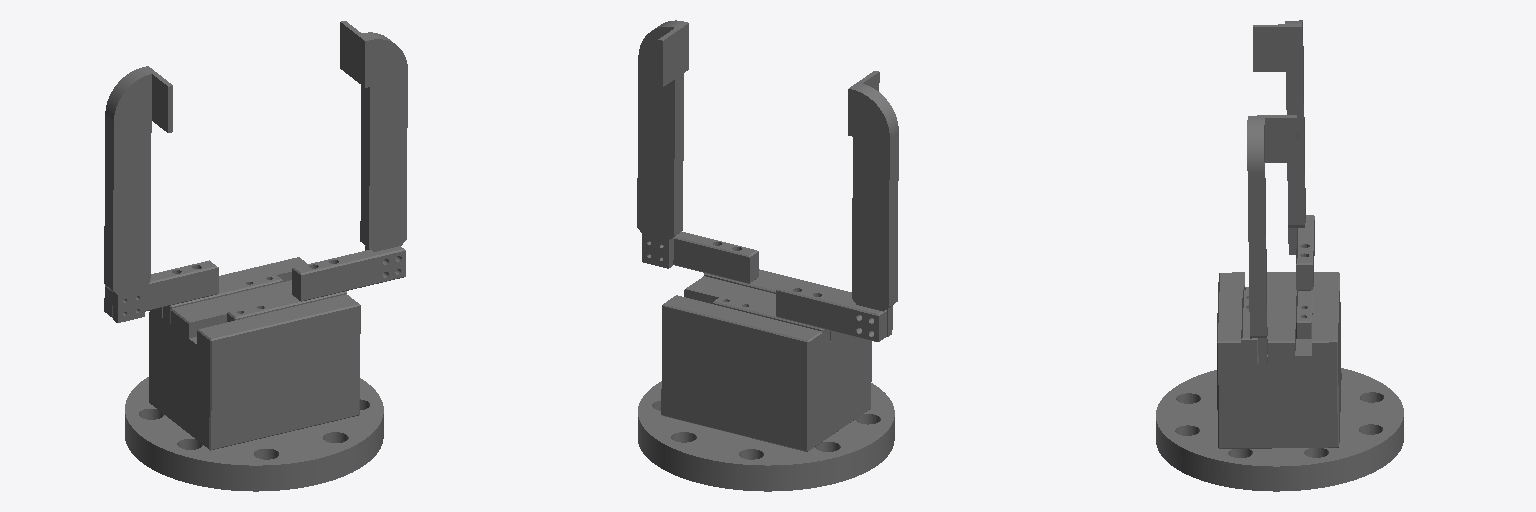
URDF robot description (custom_robots):
<?xml version="1.0" ?>
<robot name="custom_robots" version="1.0">
  <material name="black">
    <color rgba="0.0 0.0 0.0 1.0"/>
  </material>
  <material name="blue">
    <color rgba="0.0 0.0 0.8 1.0"/>
  </material>
  <material name="green">
    <color rgba="0.0 0.8 0.0 1.0"/>
  </material>
  <material name="grey_">
    <color rgba="0.2 0.2 0.2 1.0"/>
  </material>
  <material name="orange">
    <color rgba="1.0 0.423529411765 0.0392156862745 1.0"/>
  </material>
  <material name="brown">
    <color rgba="0.870588235294 0.811764705882 0.764705882353 1.0"/>
  </material>
  <material name="red">
    <color rgba="0.8 0.0 0.0 1.0"/>
  </material>
  <material name="white">
    <color rgba="1.0 1.0 1.0 1.0"/>
  </material>
  <material name="metal">
    <color rgba="0.76862745098 0.749019607843 0.729411764706 1.0"/>
  </material>
  <material name="metal_grey">
    <color rgba="0.501960784314 0.501960784314 0.501960784314 1.0"/>
  </material>
  <material name="metal_white">
    <color rgba="0.866666666667 0.866666666667 0.890196078431 1.0"/>
  </material>
  <link name="base_link"/>
  <joint name="indy0_joint_base" type="fixed">
    <origin rpy="7.72251143907e-05 0.012837732858 -1.58433052921" xyz="-0.446480512619 0.251528263092 0.00979518890381"/>
    <parent link="base_link"/>
    <child link="indy0_link0"/>
  </joint>
  <link name="indy0_link0">
    <inertial>
      <origin rpy="0.0 0.0 0.0" xyz="0.0 0.0 0.0"/>
      <mass value="1.59306955"/>
      <inertia ixx="0.00572623" ixy="2.51e-06" ixz="-0.0001138" iyy="0.00558959" iyz="-1.4e-07" izz="0.00966674"/>
    </inertial>
    <visual>
      <origin rpy="0.0 0.0 0.0" xyz="0.0 0.0 0.0"/>
      <geometry>
        <mesh filename="package://indy7_description/meshes/stl/Indy7_0.stl"/>
      </geometry>
      <material name="metal_grey"/>
    </visual>
    <collision>
      <origin rpy="-0.0 1.57079633 0.0" xyz="-0.1 0.0 0.03"/>
      <geometry>
        <cylinder length="0.2" radius="0.05"/>
      </geometry>
    </collision>
  </link>
  <link name="indy0_link1">
    <inertial>
      <origin rpy="0.0 0.0 0.0" xyz="0.0 0.0 0.0"/>
      <mass value="11.8030102"/>
      <inertia ixx="0.15418559" ixy="-2.35e-06" ixz="1.739e-05" iyy="0.12937017" iyz="-0.04854267" izz="0.05964415"/>
    </inertial>
    <visual>
      <origin rpy="0.0 0.0 0.0" xyz="0.0 0.0 0.0"/>
      <geometry>
        <mesh filename="package://indy7_description/meshes/stl/Indy7_1.stl"/>
      </geometry>
      <material name="metal_grey"/>
    </visual>
    <collision>
      <origin rpy="0.0 0.0 0.0" xyz="0.0 0.0 0.072"/>
      <geometry>
        <cylinder length="0.3" radius="0.1"/>
      </geometry>
    </collision>
  </link>
  <link name="indy0_link2">
    <inertial>
      <origin rpy="0.0 0.0 0.0" xyz="0.0 0.0 0.0"/>
      <mass value="7.99292141"/>
      <inertia ixx="0.2935698" ixy="-4e-07" ixz="1.441e-05" iyy="0.28094142" iyz="0.03727972" izz="0.03620609"/>
    </inertial>
    <visual>
      <origin rpy="0.0 0.0 0.0" xyz="0.0 0.0 0.0"/>
      <geometry>
        <mesh filename="package://indy7_description/meshes/stl/Indy7_2.stl"/>
      </geometry>
      <material name="metal_grey"/>
    </visual>
    <collision>
      <origin rpy="1.57079632679 0.0 -1.57079632679" xyz="-0.225 0.0 0.09"/>
      <geometry>
        <cylinder length="0.45" radius="0.073"/>
      </geometry>
    </collision>
    <collision>
      <origin rpy="0.0 0.0 0.0" xyz="0.0 0.0 -0.01"/>
      <geometry>
        <cylinder length="0.2" radius="0.085"/>
      </geometry>
    </collision>
  </link>
  <link name="indy0_link3">
    <inertial>
      <origin rpy="0.0 0.0 0.0" xyz="0.0 0.0 0.0"/>
      <mass value="2.99134127"/>
      <inertia ixx="0.03424593" ixy="1.49e-06" ixz="7.24e-06" iyy="0.03406024" iyz="0.00186009" izz="0.00450477"/>
    </inertial>
    <visual>
      <origin rpy="0.0 0.0 0.0" xyz="0.0 0.0 0.0"/>
      <geometry>
        <mesh filename="package://indy7_description/meshes/stl/Indy7_3.stl"/>
      </geometry>
      <material name="metal_grey"/>
    </visual>
    <collision>
      <origin rpy="0.0 0.0 0.0" xyz="0.0 0.0 0.03"/>
      <geometry>
        <cylinder length="0.2" radius="0.065"/>
      </geometry>
    </collision>
  </link>
  <link name="indy0_link4">
    <inertial>
      <origin rpy="0.0 0.0 0.0" xyz="0.0 0.0 0.0"/>
      <mass value="2.12317035"/>
      <inertia ixx="0.00670405" ixy="3.75e-06" ixz="1.5e-06" iyy="0.00279246" iyz="-0.00127967" izz="0.00619341"/>
    </inertial>
    <visual>
      <origin rpy="0.0 0.0 0.0" xyz="0.0 0.0 0.0"/>
      <geometry>
        <mesh filename="package://indy7_description/meshes/stl/Indy7_4.stl"/>
      </geometry>
      <material name="metal_grey"/>
    </visual>
    <collision>
      <origin rpy="0.0 0.0 0.0" xyz="0.0 0.0 -0.092"/>
      <geometry>
        <cylinder length="0.35" radius="0.06"/>
      </geometry>
    </collision>
  </link>
  <link name="indy0_link5">
    <inertial>
      <origin rpy="0.0 0.0 0.0" xyz="0.0 0.0 0.0"/>
      <mass value="2.28865091"/>
      <inertia ixx="0.00994891" ixy="1.4e-07" ixz="3.21e-06" iyy="0.00978189" iyz="-0.00093546" izz="0.00271492"/>
    </inertial>
    <visual>
      <origin rpy="0.0 0.0 0.0" xyz="0.0 0.0 0.0"/>
      <geometry>
        <mesh filename="package://indy7_description/meshes/stl/Indy7_5.stl"/>
      </geometry>
      <material name="metal_grey"/>
    </visual>
    <collision>
      <origin rpy="0.0 0.0 0.0" xyz="-0.0 0.0 -0.0225"/>
      <geometry>
        <cylinder length="0.183" radius="0.055"/>
      </geometry>
    </collision>
  </link>
  <link name="indy0_link6">
    <inertial>
      <origin rpy="0.0 0.0 0.0" xyz="0.0 0.0 0.0"/>
      <mass value="0.40083918"/>
      <inertia ixx="0.00043534" ixy="1.3e-07" ixz="-2e-08" iyy="0.00044549" iyz="5.1e-07" izz="0.00059634"/>
    </inertial>
    <visual>
      <origin rpy="0.0 0.0 0.0" xyz="0.0 0.0 0.0"/>
      <geometry>
        <mesh filename="package://indy7_description/meshes/stl/Indy7_6.stl"/>
      </geometry>
      <material name="metal_grey"/>
    </visual>
    <collision>
      <origin rpy="0.0 0.0 0.0" xyz="0.0 0.0 -0.038"/>
      <geometry>
        <cylinder length="0.25" radius="0.06"/>
      </geometry>
    </collision>
  </link>
  <link name="indy0_tcp">
    <visual>
      <origin rpy="0.0 0.0 1.570796" xyz="0.0 0.0 0.0"/>
      <geometry>
        <mesh filename="package://my_mesh/meshes/stl/indy_gripper_asm2_res.STL"/>
      </geometry>
      <material name="metal_grey"/>
    </visual>
    <collision>
      <origin rpy="0.0 0.0 0.0" xyz="0.005 0.044 0.1"/>
      <geometry>
        <cylinder length="0.08" radius="0.016"/>
      </geometry>
    </collision>
    <collision>
      <origin rpy="0.0 0.0 0.0" xyz="-0.005 0.044 0.1"/>
      <geometry>
        <cylinder length="0.08" radius="0.016"/>
      </geometry>
    </collision>
    <collision>
      <origin rpy="0.0 0.0 0.0" xyz="0.005 -0.044 0.1"/>
      <geometry>
        <cylinder length="0.08" radius="0.016"/>
      </geometry>
    </collision>
    <collision>
      <origin rpy="0.0 0.0 0.0" xyz="-0.005 -0.044 0.1"/>
      <geometry>
        <cylinder length="0.08" radius="0.016"/>
      </geometry>
    </collision>
  </link>
  <joint name="indy0_joint0" type="revolute">
    <origin rpy="0.0 0.0 0.0" xyz="0.0 0.0 0.0775"/>
    <axis xyz="0.0 0.0 1.0"/>
    <parent link="indy0_link0"/>
    <child link="indy0_link1"/>
    <limit effort="3.141592653589793" lower="-3.05432619099" upper="3.05432619099" velocity="1.3089969389957472"/>
  </joint>
  <joint name="indy0_joint1" type="revolute">
    <origin rpy="1.57079632679 1.57079632679 0.0" xyz="0.0 -0.109 0.222"/>
    <axis xyz="0.0 0.0 1.0"/>
    <parent link="indy0_link1"/>
    <child link="indy0_link2"/>
    <limit effort="3.141592653589793" lower="-3.05432619099" upper="3.05432619099" velocity="1.3089969389957472"/>
  </joint>
  <joint name="indy0_joint2" type="revolute">
    <origin rpy="0.0 0.0 0.0" xyz="-0.45 0.0 -0.0305"/>
    <axis xyz="0.0 0.0 1.0"/>
    <parent link="indy0_link2"/>
    <child link="indy0_link3"/>
    <limit effort="3.141592653589793" lower="-3.05432619099" upper="3.05432619099" velocity="1.3089969389957472"/>
  </joint>
  <joint name="indy0_joint3" type="revolute">
    <origin rpy="-1.57079632679 0.0 1.57079632679" xyz="-0.267 0.0 -0.075"/>
    <axis xyz="0.0 0.0 1.0"/>
    <parent link="indy0_link3"/>
    <child link="indy0_link4"/>
    <limit effort="3.141592653589793" lower="-3.05432619099" upper="3.05432619099" velocity="1.5707963267948966"/>
  </joint>
  <joint name="indy0_joint4" type="revolute">
    <origin rpy="1.57079632679 1.57079632679 0.0" xyz="0.0 -0.114 0.083"/>
    <axis xyz="0.0 0.0 1.0"/>
    <parent link="indy0_link4"/>
    <child link="indy0_link5"/>
    <limit effort="3.141592653589793" lower="-3.05432619099" upper="3.05432619099" velocity="1.5707963267948966"/>
  </joint>
  <joint name="indy0_joint5" type="revolute">
    <origin rpy="-1.57079632679 0.0 1.57079632679" xyz="-0.168 0.0 0.069"/>
    <axis xyz="0.0 0.0 1.0"/>
    <parent link="indy0_link5"/>
    <child link="indy0_link6"/>
    <limit effort="3.141592653589793" lower="-3.75245789179" upper="3.75245789179" velocity="1.5707963267948966"/>
  </joint>
  <joint name="indy0_tcp" type="fixed">
    <origin rpy="0.0 0.0 0.0" xyz="0.0 0.0 0.06"/>
    <parent link="indy0_link6"/>
    <child link="indy0_tcp"/>
  </joint>
  <transmission name="indy0_tran0">
    <type>transmission_interface/SimpleTransmission</type>
    <joint name="indy0_joint0">
      <hardwareInterface>PositionJointInterface</hardwareInterface>
    </joint>
    <actuator name="indy0_motor0">
      <mechanicalReduction>1.0</mechanicalReduction>
    </actuator>
  </transmission>
  <transmission name="indy0_tran1">
    <type>transmission_interface/SimpleTransmission</type>
    <joint name="indy0_joint1">
      <hardwareInterface>PositionJointInterface</hardwareInterface>
    </joint>
    <actuator name="indy0_motor1">
      <mechanicalReduction>1.0</mechanicalReduction>
    </actuator>
  </transmission>
  <transmission name="indy0_tran2">
    <type>transmission_interface/SimpleTransmission</type>
    <joint name="indy0_joint2">
      <hardwareInterface>PositionJointInterface</hardwareInterface>
    </joint>
    <actuator name="indy0_motor2">
      <mechanicalReduction>1.0</mechanicalReduction>
    </actuator>
  </transmission>
  <transmission name="indy0_tran3">
    <type>transmission_interface/SimpleTransmission</type>
    <joint name="indy0_joint3">
      <hardwareInterface>PositionJointInterface</hardwareInterface>
    </joint>
    <actuator name="indy0_motor3">
      <mechanicalReduction>1.0</mechanicalReduction>
    </actuator>
  </transmission>
  <transmission name="indy0_tran4">
    <type>transmission_interface/SimpleTransmission</type>
    <joint name="indy0_joint4">
      <hardwareInterface>PositionJointInterface</hardwareInterface>
    </joint>
    <actuator name="indy0_motor4">
      <mechanicalReduction>1.0</mechanicalReduction>
    </actuator>
  </transmission>
  <transmission name="indy0_tran5">
    <type>transmission_interface/SimpleTransmission</type>
    <joint name="indy0_joint5">
      <hardwareInterface>PositionJointInterface</hardwareInterface>
    </joint>
    <actuator name="indy0_motor5">
      <mechanicalReduction>1.0</mechanicalReduction>
    </actuator>
  </transmission>
  <joint name="panda1_joint_base" type="fixed">
    <origin rpy="0.00371903837049 0.0130669918716 -1.60510658312" xyz="0.511702060699 0.168303191662 0.014661192894"/>
    <parent link="base_link"/>
    <child link="panda1_link0"/>
  </joint>
  <link name="panda1_link0">
    <visual>
      <geometry>
        <mesh filename="package://franka_description/meshes/visual/link0.dae"/>
      </geometry>
    </visual>
    <collision>
      <origin rpy="3.14159265 -1.37340077 3.14159265" xyz="-0.03 0.0 0.03"/>
      <geometry>
        <cylinder length="0.102" radius="0.1"/>
      </geometry>
    </collision>
    <collision>
      <origin rpy="1.57079633 0.0 0.0" xyz="-0.05 0.0 0.03"/>
      <geometry>
        <cylinder length="0.3" radius="0.05"/>
      </geometry>
    </collision>
  </link>
  <link name="panda1_link1">
    <visual>
      <geometry>
        <mesh filename="package://franka_description/meshes/visual/link1.dae"/>
      </geometry>
    </visual>
    <collision>
      <origin rpy="-2.71183037 0.0 0.0" xyz="0.0 -0.0275 -0.075"/>
      <geometry>
        <cylinder length="0.132" radius="0.11"/>
      </geometry>
    </collision>
  </link>
  <joint name="panda1_joint1" type="revolute">
    <origin rpy="0.0 0.0 0.0" xyz="0.0 0.0 0.333"/>
    <axis xyz="0.0 0.0 1.0"/>
    <parent link="panda1_link0"/>
    <child link="panda1_link1"/>
    <limit effort="3.141592653589793" lower="-2.75" upper="2.75" velocity="1.3089969389957472"/>
    <safety_controller k_position="100.0" k_velocity="40.0" soft_lower_limit="-2.8973" soft_upper_limit="2.8973"/>
  </joint>
  <link name="panda1_link2">
    <visual>
      <geometry>
        <mesh filename="package://franka_description/meshes/visual/link2.dae"/>
      </geometry>
    </visual>
    <collision>
      <origin rpy="1.98320677 -0.0 0.0" xyz="0.0 -0.08 0.035"/>
      <geometry>
        <cylinder length="0.175" radius="0.09"/>
      </geometry>
    </collision>
  </link>
  <joint name="panda1_joint2" type="revolute">
    <origin rpy="-1.57079632679 0.0 0.0" xyz="0.0 0.0 0.0"/>
    <axis xyz="0.0 0.0 1.0"/>
    <parent link="panda1_link1"/>
    <child link="panda1_link2"/>
    <limit effort="3.141592653589793" lower="-1.7" upper="1.7" velocity="1.3089969389957472"/>
    <safety_controller k_position="100.0" k_velocity="40.0" soft_lower_limit="-1.7628" soft_upper_limit="1.7628"/>
  </joint>
  <link name="panda1_link3">
    <visual>
      <geometry>
        <mesh filename="package://franka_description/meshes/visual/link3.dae"/>
      </geometry>
    </visual>
    <collision>
      <origin rpy="2.48451772 -0.7355124 -1.69290814" xyz="0.04 0.027 -0.035"/>
      <geometry>
        <cylinder length="0.12" radius="0.09"/>
      </geometry>
    </collision>
  </link>
  <joint name="panda1_joint3" type="revolute">
    <origin rpy="1.57079632679 0.0 0.0" xyz="0.0 -0.316 0.0"/>
    <axis xyz="0.0 0.0 1.0"/>
    <parent link="panda1_link2"/>
    <child link="panda1_link3"/>
    <limit effort="3.141592653589793" lower="-2.75" upper="2.75" velocity="1.3089969389957472"/>
    <safety_controller k_position="100.0" k_velocity="40.0" soft_lower_limit="-2.8973" soft_upper_limit="2.8973"/>
  </joint>
  <link name="panda1_link4">
    <visual>
      <geometry>
        <mesh filename="package://franka_description/meshes/visual/link4.dae"/>
      </geometry>
    </visual>
    <collision>
      <origin rpy="-2.0064792 -0.71456939 1.05945848" xyz="-0.0555 0.058 0.027"/>
      <geometry>
        <cylinder length="0.17" radius="0.08"/>
      </geometry>
    </collision>
  </link>
  <joint name="panda1_joint4" type="revolute">
    <origin rpy="1.57079632679 0.0 0.0" xyz="0.0825 0.0 0.0"/>
    <axis xyz="0.0 0.0 1.0"/>
    <parent link="panda1_link3"/>
    <child link="panda1_link4"/>
    <limit effort="3.141592653589793" lower="-2.9" upper="-0.1" velocity="1.3089969389957472"/>
    <safety_controller k_position="100.0" k_velocity="40.0" soft_lower_limit="-3.0718" soft_upper_limit="-0.0698"/>
  </joint>
  <link name="panda1_link5">
    <visual>
      <geometry>
        <mesh filename="package://franka_description/meshes/visual/link5.dae"/>
      </geometry>
    </visual>
    <collision>
      <origin rpy="2.87423726 -0.0 0.0" xyz="0.0 0.0315 -0.115"/>
      <geometry>
        <cylinder length="0.238" radius="0.08"/>
      </geometry>
    </collision>
  </link>
  <joint name="panda1_joint5" type="revolute">
    <origin rpy="-1.57079632679 0.0 0.0" xyz="-0.0825 0.384 0.0"/>
    <axis xyz="0.0 0.0 1.0"/>
    <parent link="panda1_link4"/>
    <child link="panda1_link5"/>
    <limit effort="3.141592653589793" lower="-2.75" upper="2.75" velocity="1.5707963267948966"/>
    <safety_controller k_position="100.0" k_velocity="40.0" soft_lower_limit="-2.8973" soft_upper_limit="2.8973"/>
  </joint>
  <link name="panda1_link6">
    <visual>
      <geometry>
        <mesh filename="package://franka_description/meshes/visual/link6.dae"/>
      </geometry>
    </visual>
    <collision>
      <origin rpy="-0.0 -1.57079633 0.0" xyz="0.035 0.0 0.0"/>
      <geometry>
        <cylinder length="0.09" radius="0.09"/>
      </geometry>
    </collision>
    <collision>
      <origin rpy="0.0 0.0 0.0" xyz="0.09 -0.07 0.0"/>
      <geometry>
        <sphere radius="0.06"/>
      </geometry>
    </collision>
  </link>
  <joint name="panda1_joint6" type="revolute">
    <origin rpy="1.57079632679 0.0 0.0" xyz="0.0 0.0 0.0"/>
    <axis xyz="0.0 0.0 1.0"/>
    <parent link="panda1_link5"/>
    <child link="panda1_link6"/>
    <limit effort="3.141592653589793" lower="0.1" upper="3.6" velocity="1.5707963267948966"/>
    <safety_controller k_position="100.0" k_velocity="40.0" soft_lower_limit="-0.0175" soft_upper_limit="3.7525"/>
  </joint>
  <link name="panda1_link7">
    <visual>
      <geometry>
        <mesh filename="package://franka_description/meshes/visual/link7.dae"/>
      </geometry>
    </visual>
  </link>
  <joint name="panda1_joint7" type="revolute">
    <origin rpy="1.57079632679 0.0 0.0" xyz="0.088 0.0 0.0"/>
    <axis xyz="0.0 0.0 1.0"/>
    <parent link="panda1_link6"/>
    <child link="panda1_link7"/>
    <limit effort="3.141592653589793" lower="-2.75" upper="2.75" velocity="1.5707963267948966"/>
    <safety_controller k_position="100.0" k_velocity="40.0" soft_lower_limit="-2.8973" soft_upper_limit="2.8973"/>
  </joint>
  <link name="panda1_link8"/>
  <joint name="panda1_joint8" type="fixed">
    <origin rpy="0.0 0.0 0.0" xyz="0.0 0.0 0.107"/>
    <axis xyz="0.0 0.0 0.0"/>
    <parent link="panda1_link7"/>
    <child link="panda1_link8"/>
  </joint>
  <joint name="panda1_hand_joint" type="fixed">
    <origin rpy="0.0 0.0 -0.785398163397" xyz="0.0 0.0 0.0"/>
    <parent link="panda1_link8"/>
    <child link="panda1_hand"/>
  </joint>
  <link name="panda1_hand">
    <visual>
      <geometry>
        <mesh filename="package://franka_description/meshes/visual/hand.dae"/>
      </geometry>
    </visual>
    <collision>
      <origin rpy="1.57079633 0.0 0.0" xyz="0.0 0.0 0.025"/>
      <geometry>
        <box size="0.06 0.094 0.22"/>
      </geometry>
    </collision>
  </link>
  <link name="panda1_leftfinger">
    <visual>
      <geometry>
        <mesh filename="package://franka_description/meshes/visual/finger.dae"/>
      </geometry>
    </visual>
    <collision>
      <origin rpy="-2.73268482 0.0 0.0" xyz="0.0 0.0135 0.035"/>
      <geometry>
        <cylinder length="0.0325" radius="0.018"/>
      </geometry>
    </collision>
  </link>
  <link name="panda1_rightfinger">
    <visual>
      <origin rpy="0.0 0.0 3.14159265359" xyz="0.0 0.0 0.0"/>
      <geometry>
        <mesh filename="package://franka_description/meshes/visual/finger.dae"/>
      </geometry>
    </visual>
    <collision>
      <origin rpy="-2.73268482 0.0 -3.14159265" xyz="0.0 -0.0135 0.035"/>
      <geometry>
        <cylinder length="0.0325" radius="0.018"/>
      </geometry>
    </collision>
  </link>
  <joint name="panda1_finger_joint1" type="fixed">
    <origin rpy="0.0 0.0 0.0" xyz="0.0 0.04 0.0584"/>
    <parent link="panda1_hand"/>
    <child link="panda1_leftfinger"/>
  </joint>
  <joint name="panda1_finger_joint2" type="fixed">
    <origin rpy="0.0 0.0 0.0" xyz="0.0 -0.04 0.0584"/>
    <parent link="panda1_hand"/>
    <child link="panda1_rightfinger"/>
    <mimic joint="panda1_finger_joint1"/>
  </joint>
</robot>

--- Render facts (derived) ---
3 views of the same robot in one strip: view 1: azimuth 30°, elevation 25°; view 2: azimuth 150°, elevation 25°; view 3: azimuth 270°, elevation 25° (orthographic).
Robot: custom_robots — 21 links, 20 joints (13 revolute, 7 fixed); root link base_link; default pose: all joints at 0 but 2 set to mid-range because 0 is outside their limits (panda1_joint4 = -1.5, panda1_joint6 = 1.85).
Links seen in each view (by area): view 1: indy0_tcp; view 2: indy0_tcp; view 3: indy0_tcp.
Boxes of the visible links, x1=… form: indy0_tcp: x1=104, y1=21, x2=407, y2=491; indy0_tcp: x1=637, y1=20, x2=898, y2=491; indy0_tcp: x1=1156, y1=20, x2=1403, y2=491.
Bounding box of the posed robot: 0.1099 × 0.0901 × 0.1479 m (x, y, z).
Meshes: 18 distinct files referenced, 1 mesh visuals loaded (1 binary STL); not drawn: 18 (reference not matched to a file when rendering).